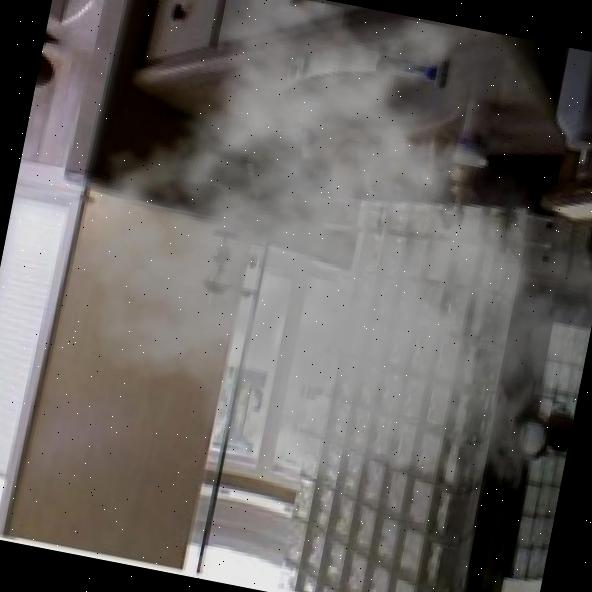smoke: (24, 0, 592, 575)
